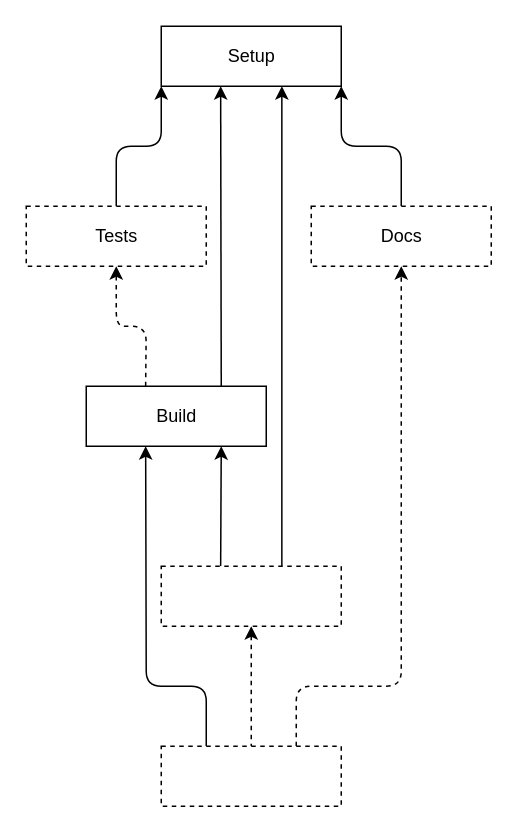
This 518x833 diagram has some shape labels left out. Here are the shapes that lost their labels. From the top down, the box of each, then its label:
(160, 565, 341, 626): BuildTests
(160, 745, 341, 806): Publish (disabled by default)
